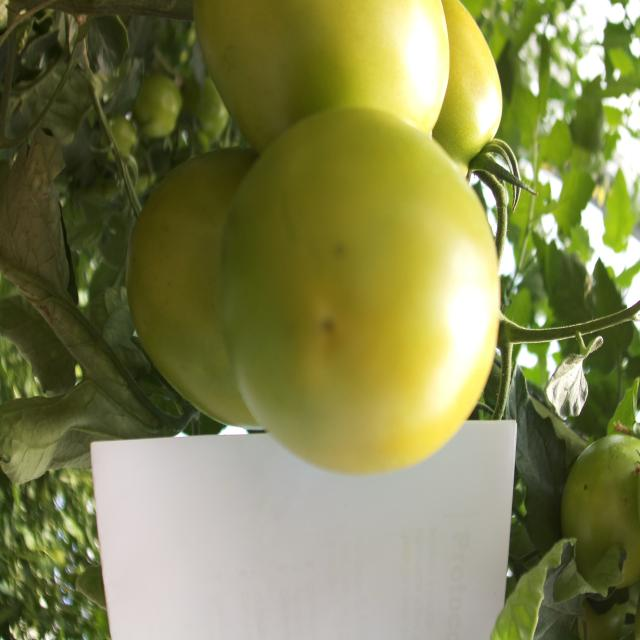yesil: (158, 97, 502, 467)
